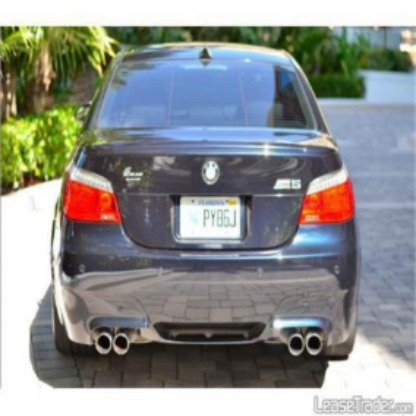Vehicle: (51, 42, 361, 365)
